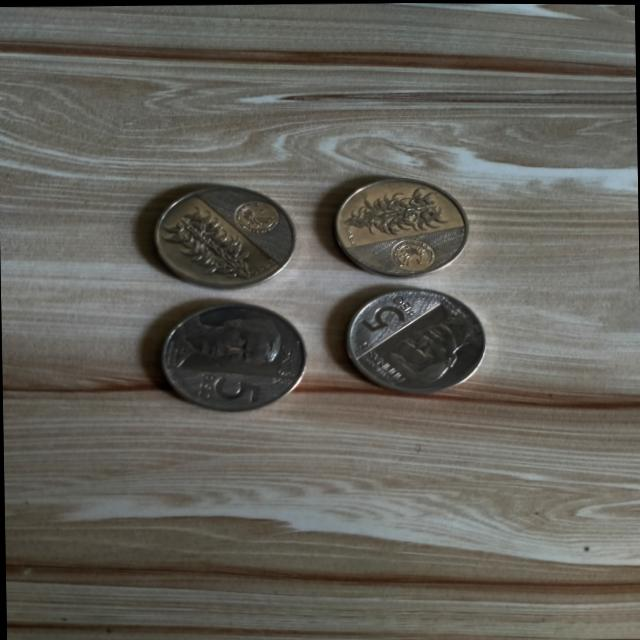5_New_Back: (144, 198, 258, 285), (334, 182, 472, 237)
5_New_Front: (178, 365, 276, 416), (361, 290, 437, 336)
